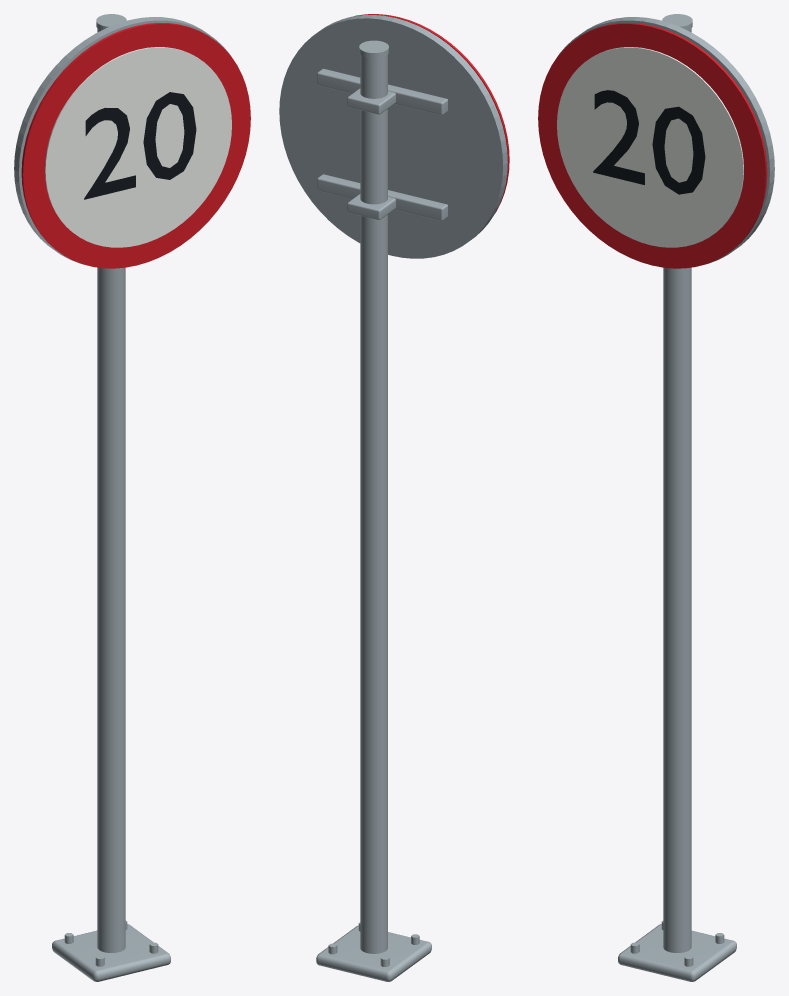
Rendered from DS_Sign_Speed20.glb.
3 views of the same model, side by side, from view 1: azimuth 30°, elevation 25°; view 2: azimuth 150°, elevation 25°; view 3: azimuth 330°, elevation 25° (orthographic). The views are drawn at different scales.
Visible parts, largest first — view 1: Face_Field.016, Post.023, Face_Border.016, Legend_20, BasePlate.023, Plate_Back.031; view 2: Plate_Back.031, Post.023, BasePlate.023, RearRail.050, RearRail.049, PostClamp.046, PostClamp.045, Face_Border.016; view 3: Face_Field.016, Post.023, Face_Border.016, Legend_20, BasePlate.023, Plate_Back.031.
Part boxes in pixels (x1,y1,x2,y2): Face_Field.016: (45, 47, 231, 247); Post.023: (97, 28, 125, 952); Face_Border.016: (21, 23, 250, 268); Legend_20: (84, 92, 196, 199); BasePlate.023: (52, 924, 170, 981); Plate_Back.031: (14, 17, 230, 263); Plate_Back.031: (279, 15, 507, 258); Post.023: (360, 55, 387, 953); BasePlate.023: (316, 925, 431, 981); RearRail.050: (317, 68, 448, 115); RearRail.049: (317, 174, 448, 220); PostClamp.046: (347, 88, 395, 114); PostClamp.045: (347, 194, 395, 219); Face_Border.016: (354, 14, 509, 212); Face_Field.016: (557, 47, 743, 247); Post.023: (663, 28, 691, 952); Face_Border.016: (538, 23, 767, 268); Legend_20: (593, 90, 705, 194); BasePlate.023: (618, 924, 736, 981); Plate_Back.031: (558, 17, 774, 263).
Size of the model in its own units: 0.71 by 2.81 by 0.2727.
